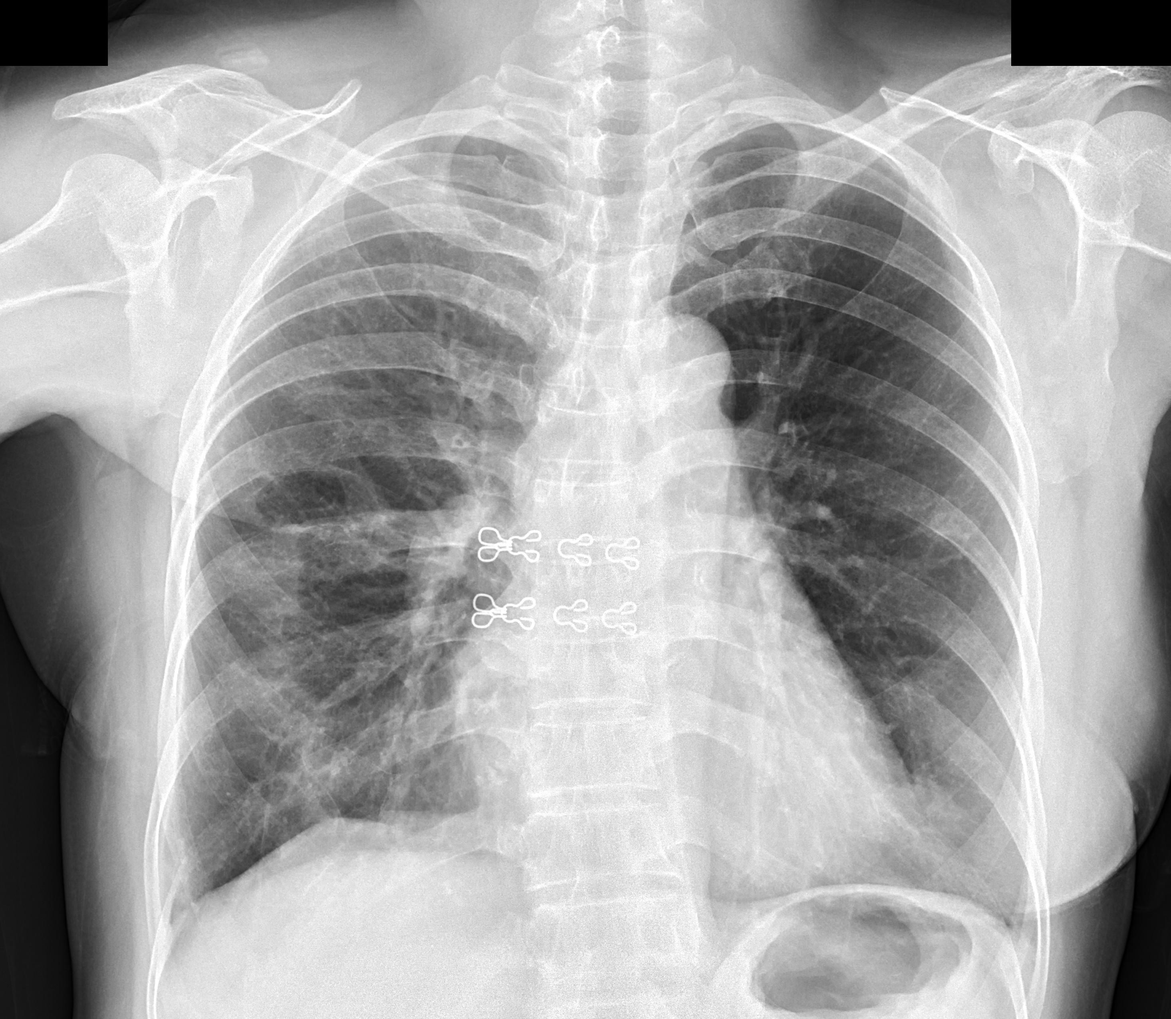Pleural thickening: (141, 884, 198, 944), (1000, 902, 1034, 961)
Pulmonary fibrosis: (249, 713, 342, 828)
